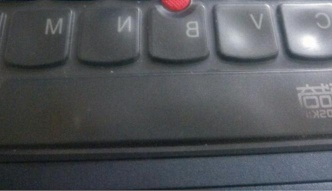ImgView: (1, 1, 331, 190)
